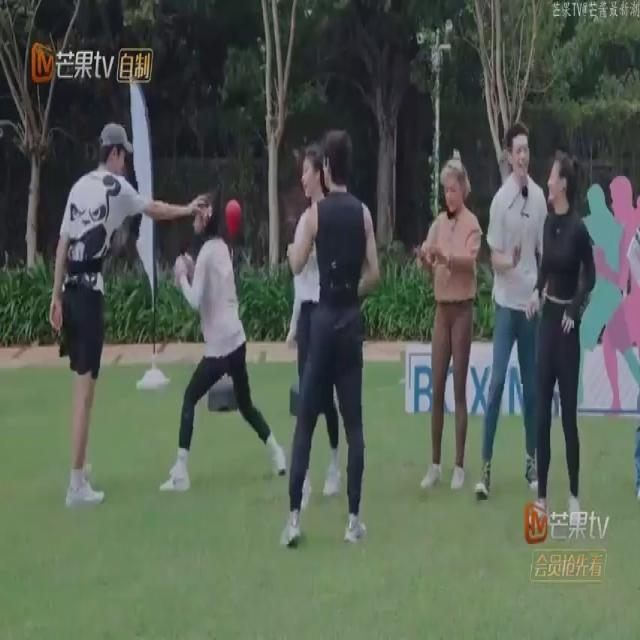non-fight: (40, 117, 204, 534), (278, 124, 380, 554), (164, 188, 284, 491), (478, 119, 548, 506), (421, 148, 483, 497)
